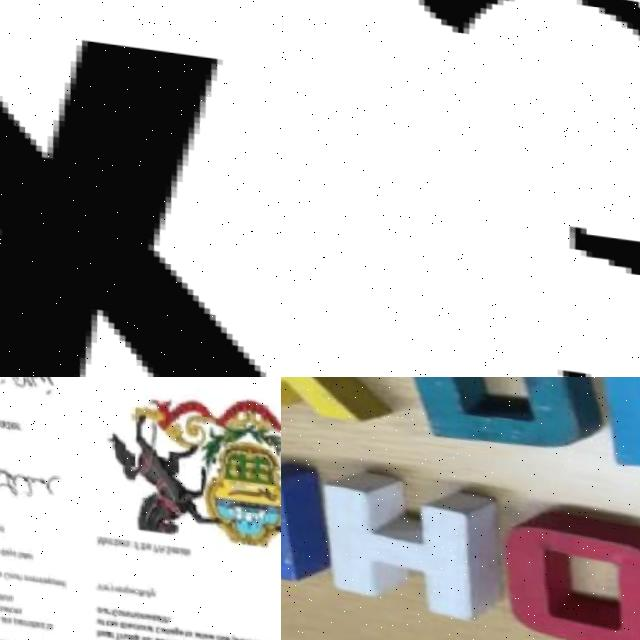3: (350, 0, 640, 377)
A: (145, 608, 153, 618), (151, 539, 158, 549), (95, 625, 103, 632), (171, 633, 179, 640), (252, 633, 260, 640), (184, 625, 190, 632), (12, 548, 18, 554), (172, 543, 178, 549), (137, 619, 142, 626), (9, 637, 16, 640), (0, 545, 2, 552)
B: (144, 630, 152, 640), (105, 533, 113, 543), (104, 637, 112, 640)
C: (102, 602, 110, 612), (145, 620, 153, 629), (234, 631, 242, 639), (125, 583, 132, 590), (123, 617, 129, 624), (161, 633, 166, 640), (0, 567, 2, 577), (203, 638, 211, 640)
D: (379, 377, 600, 453), (51, 575, 58, 585), (31, 618, 38, 627), (206, 627, 213, 636), (0, 416, 6, 426), (17, 637, 25, 640)
E: (110, 616, 118, 624), (107, 580, 115, 588), (5, 417, 12, 426), (169, 623, 176, 631), (103, 614, 111, 621), (215, 629, 223, 636), (93, 578, 100, 586), (120, 582, 128, 589), (17, 548, 24, 556), (178, 543, 186, 550), (96, 532, 103, 540), (139, 538, 146, 546), (91, 624, 98, 631), (117, 616, 124, 623), (160, 622, 167, 629), (239, 632, 246, 639), (141, 609, 148, 616), (47, 574, 54, 581), (109, 534, 116, 541), (162, 541, 169, 548), (27, 617, 32, 624), (0, 612, 5, 619), (270, 635, 277, 640), (24, 571, 29, 578), (91, 636, 99, 640), (8, 614, 13, 620), (3, 636, 10, 640), (0, 636, 6, 640), (198, 637, 205, 640), (109, 638, 116, 640)
F: (132, 583, 136, 593), (128, 535, 132, 545), (93, 615, 96, 621)
G: (164, 621, 172, 630)
H: (299, 464, 499, 621), (134, 537, 142, 546), (87, 624, 94, 634), (156, 609, 162, 619), (99, 614, 106, 621), (193, 638, 198, 640)
I: (19, 616, 24, 625), (181, 637, 185, 640)
K: (163, 635, 168, 640)
L: (9, 547, 13, 557), (191, 625, 195, 634), (189, 625, 193, 634), (151, 609, 155, 618), (138, 584, 142, 593), (139, 584, 143, 593), (1, 602, 4, 611), (116, 616, 119, 625), (156, 622, 160, 628), (141, 621, 145, 627), (158, 623, 161, 629)
M: (89, 531, 97, 541), (118, 628, 126, 635), (15, 614, 22, 622), (120, 605, 127, 613), (113, 605, 120, 612), (101, 534, 108, 541), (86, 635, 94, 640), (98, 637, 105, 640)
N: (166, 541, 174, 549), (130, 607, 137, 614), (183, 635, 191, 640), (13, 637, 21, 640)
O: (484, 503, 640, 640), (150, 631, 157, 639), (229, 631, 237, 638), (87, 612, 94, 620), (150, 620, 158, 627), (87, 601, 95, 608), (0, 567, 7, 575), (14, 570, 22, 577), (156, 632, 163, 639), (193, 626, 200, 633), (128, 618, 135, 625), (178, 624, 185, 631), (126, 606, 133, 613), (107, 604, 114, 611), (39, 619, 44, 625), (2, 603, 7, 609), (36, 573, 41, 579), (124, 537, 129, 543)
P: (3, 612, 11, 621), (42, 571, 50, 580), (116, 580, 123, 589), (146, 539, 153, 548), (223, 628, 229, 638), (124, 628, 132, 635), (39, 571, 44, 580), (276, 635, 281, 640)
R: (10, 418, 17, 428), (8, 568, 12, 577), (26, 572, 32, 578), (105, 580, 111, 586), (114, 535, 120, 541), (176, 635, 183, 640), (12, 615, 17, 622), (22, 549, 27, 556), (101, 626, 106, 632), (227, 631, 232, 637), (135, 619, 140, 625), (97, 603, 102, 609), (98, 579, 102, 586), (111, 627, 115, 633)
S: (246, 631, 254, 640), (158, 540, 165, 549), (243, 632, 250, 640), (3, 546, 11, 553), (136, 630, 142, 637), (257, 634, 264, 640), (0, 591, 6, 597), (29, 572, 35, 578), (113, 582, 119, 588), (8, 604, 13, 610), (118, 536, 123, 542)
T: (10, 568, 16, 578), (175, 622, 180, 632), (105, 628, 112, 635), (175, 542, 180, 551), (131, 536, 135, 546), (21, 618, 27, 624), (152, 609, 156, 618), (130, 583, 134, 592), (36, 619, 41, 626), (5, 604, 10, 610), (96, 614, 101, 620), (32, 574, 37, 580), (15, 549, 20, 555), (127, 618, 130, 627), (24, 618, 27, 624), (0, 590, 2, 596), (190, 638, 195, 640), (0, 636, 2, 640)
U: (113, 627, 121, 634), (211, 628, 219, 635), (91, 602, 99, 609), (4, 569, 12, 576), (134, 584, 139, 590)
V: (88, 578, 95, 588), (131, 629, 139, 636), (167, 633, 174, 640), (19, 571, 25, 577)
W: (136, 607, 143, 615), (199, 627, 206, 634), (265, 635, 272, 640)
X: (0, 0, 281, 377)
Y: (0, 543, 8, 553), (141, 583, 146, 592), (101, 580, 106, 586)
